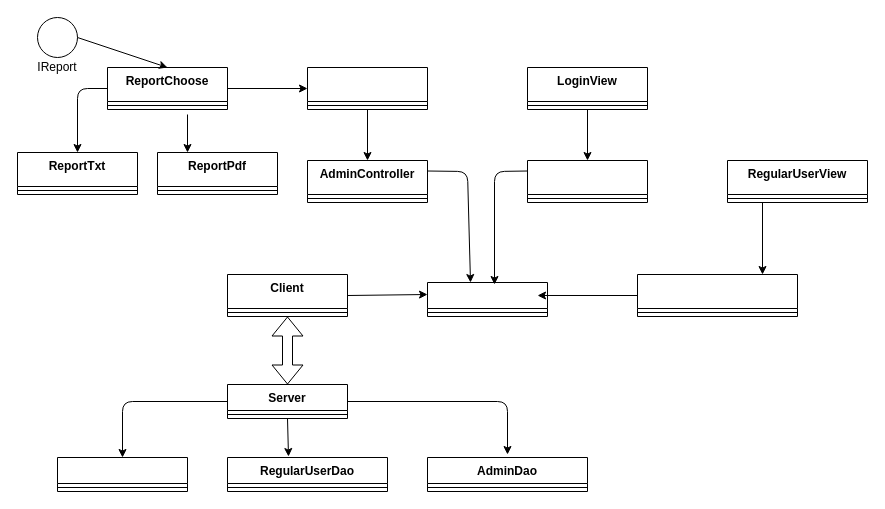
Some shapes in this 885 by 509 pixel diagram are drawn without their labels. The box of each missing label's shape, as (x1, y1, x2, y2) in pixels:
ActivityDao: (56, 456, 188, 492)
AdminView: (306, 66, 428, 110)
ClientProtocol: (426, 282, 548, 316)
Controller: (526, 160, 648, 202)
RegularUserController: (636, 274, 798, 316)
